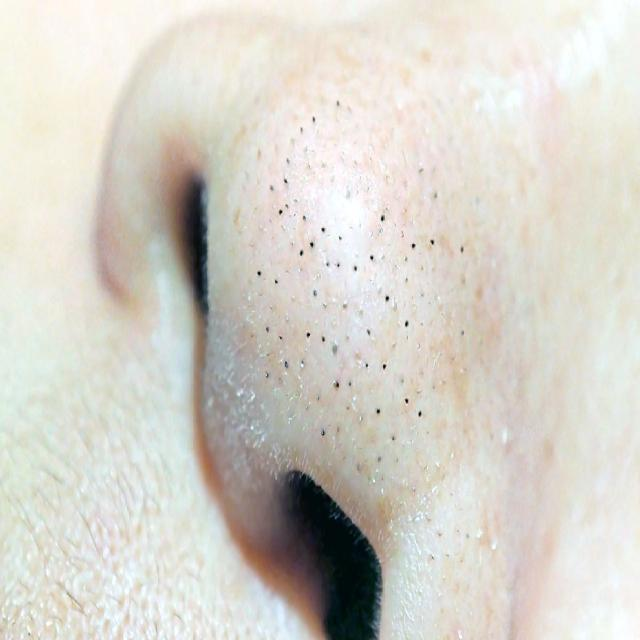Acne: (198, 56, 540, 640)
